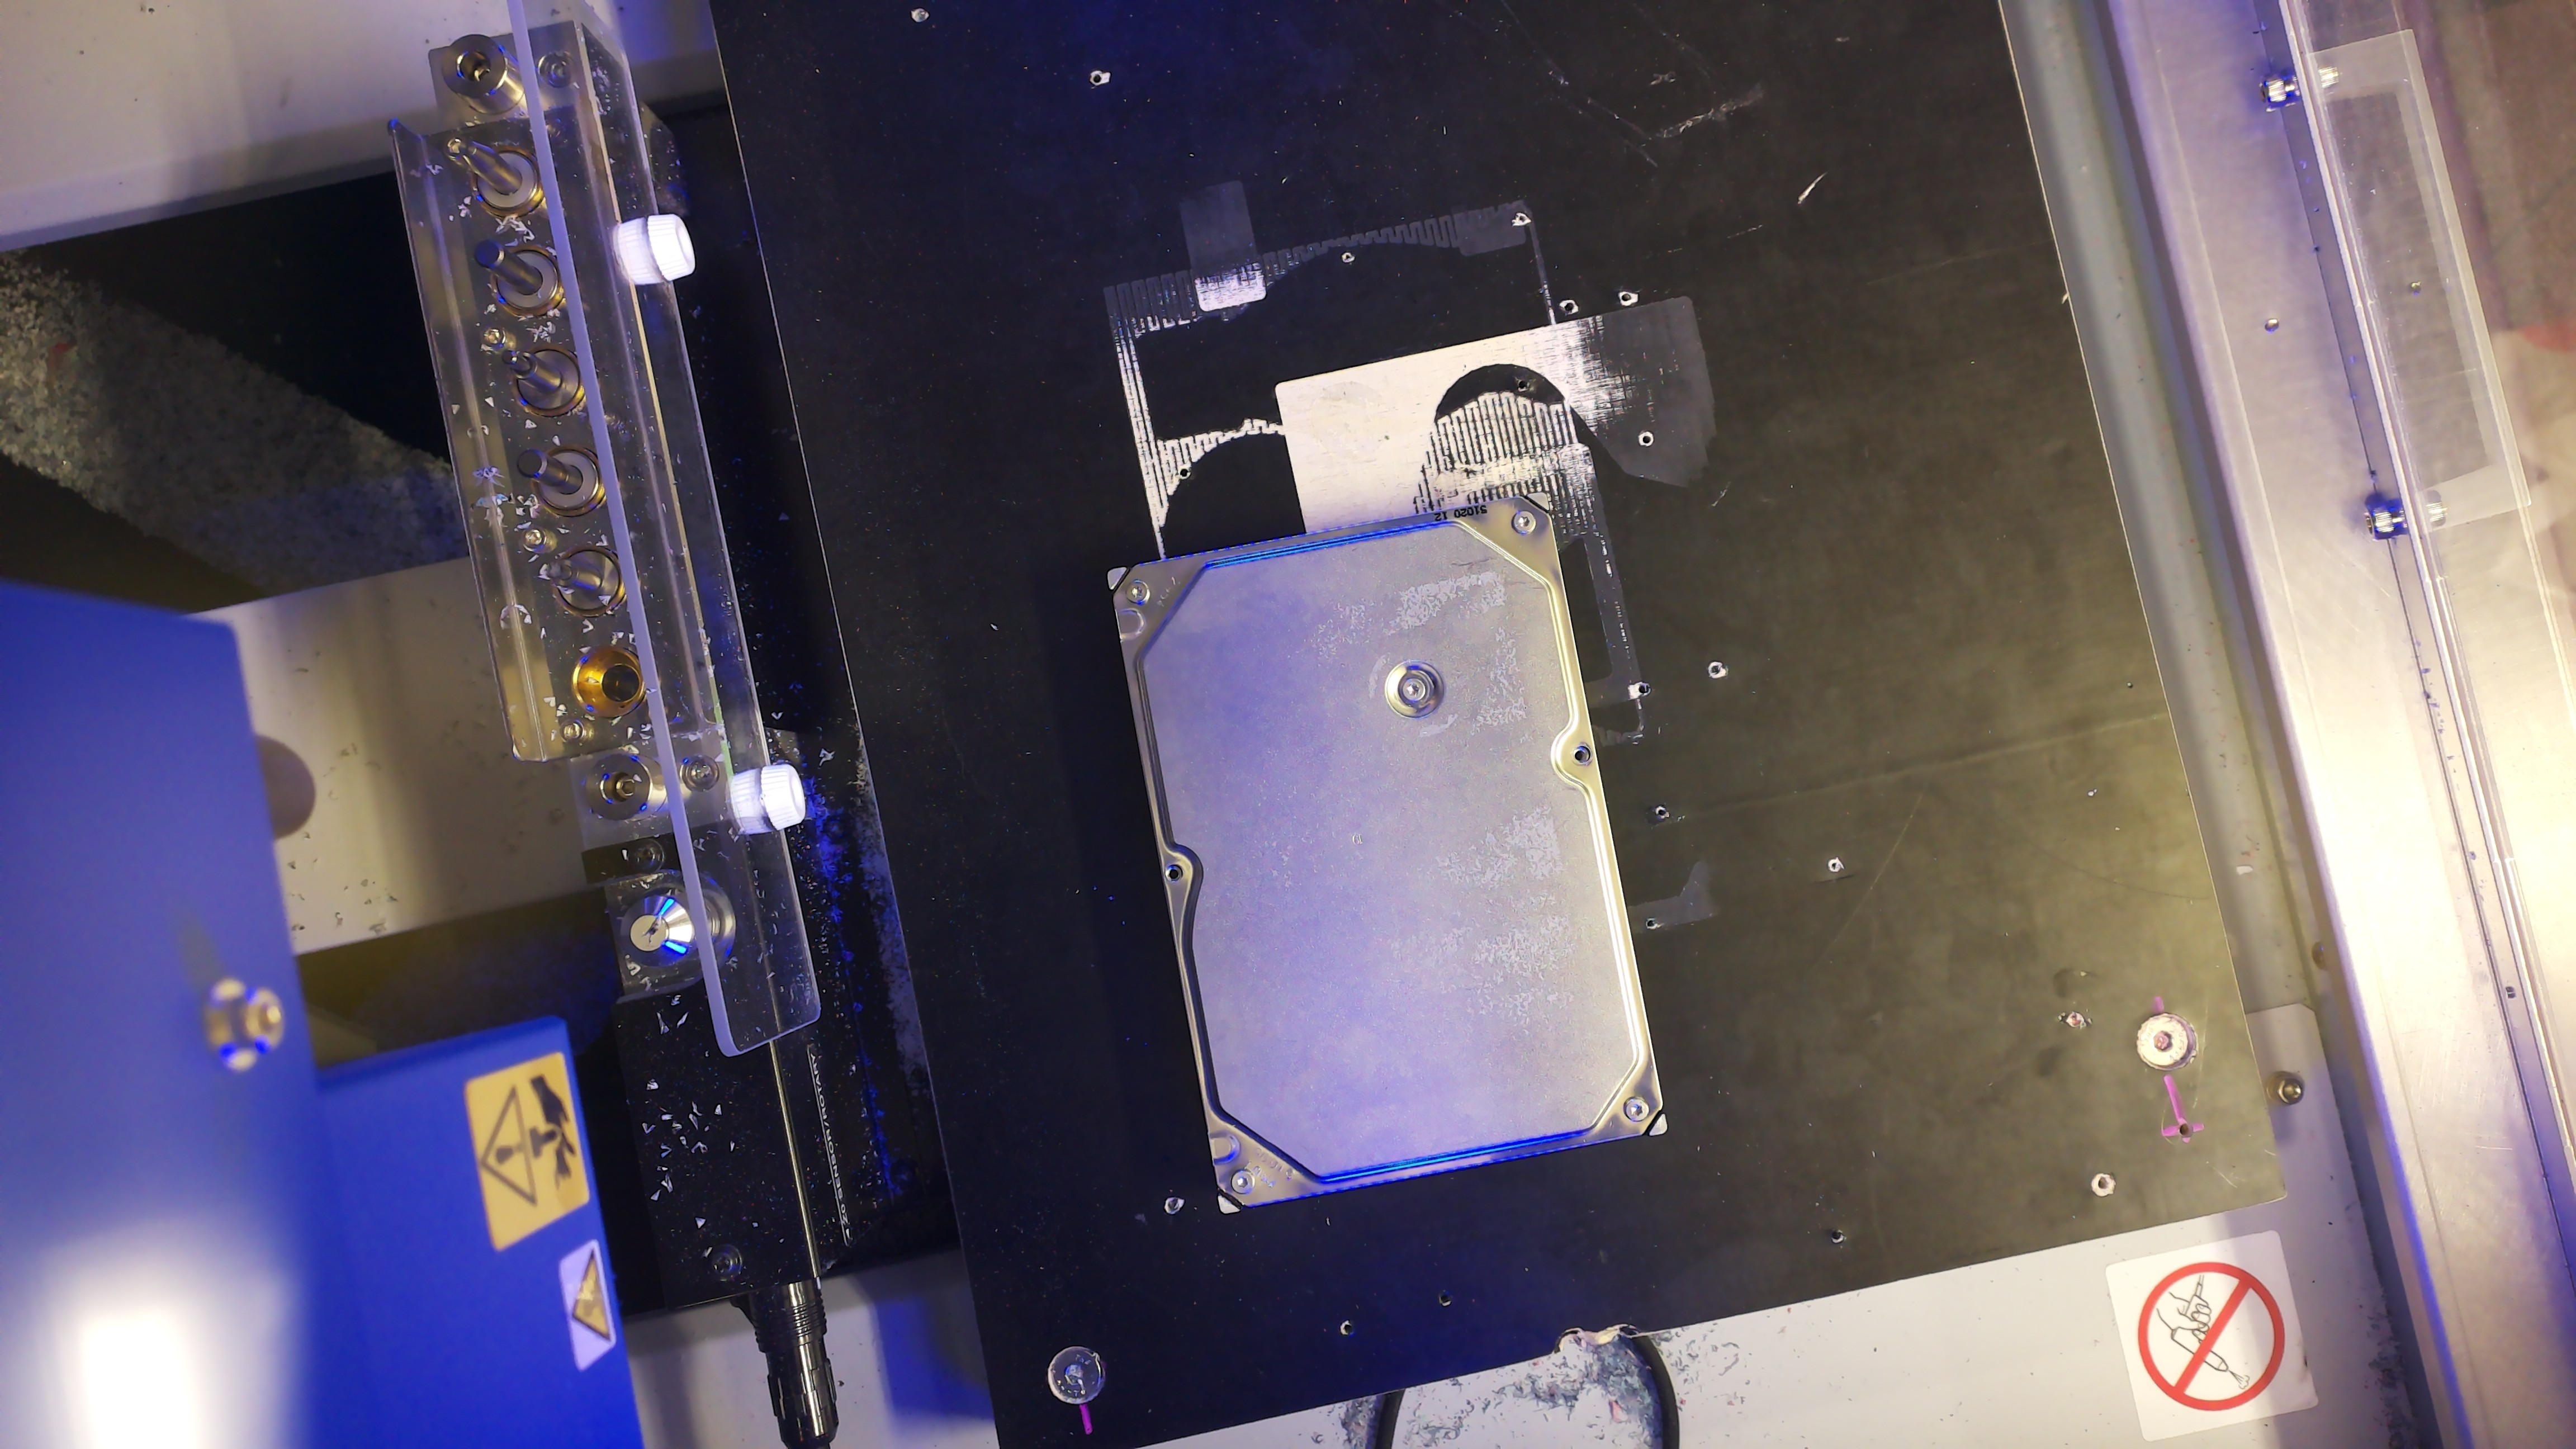Hole: (1573, 745, 1592, 764), (1166, 863, 1184, 883)
Screw: (1624, 1095, 1649, 1122), (1231, 1169, 1254, 1194), (1125, 580, 1150, 603), (1511, 511, 1534, 536), (1403, 678, 1426, 701)
